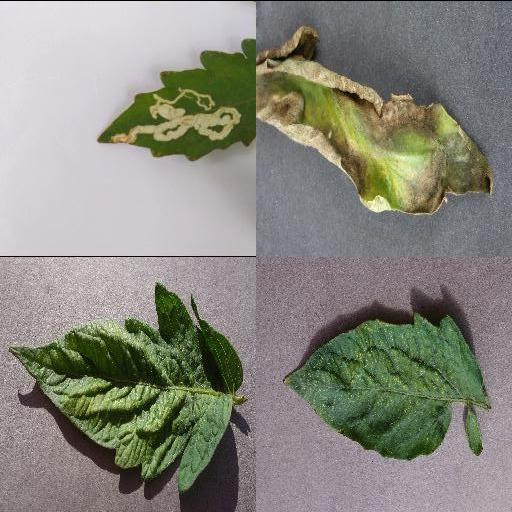Late Blight: (256, 24, 497, 214)
Leaf Miner: (97, 38, 256, 162)
Spider Mites: (7, 282, 243, 492), (283, 311, 487, 459)
